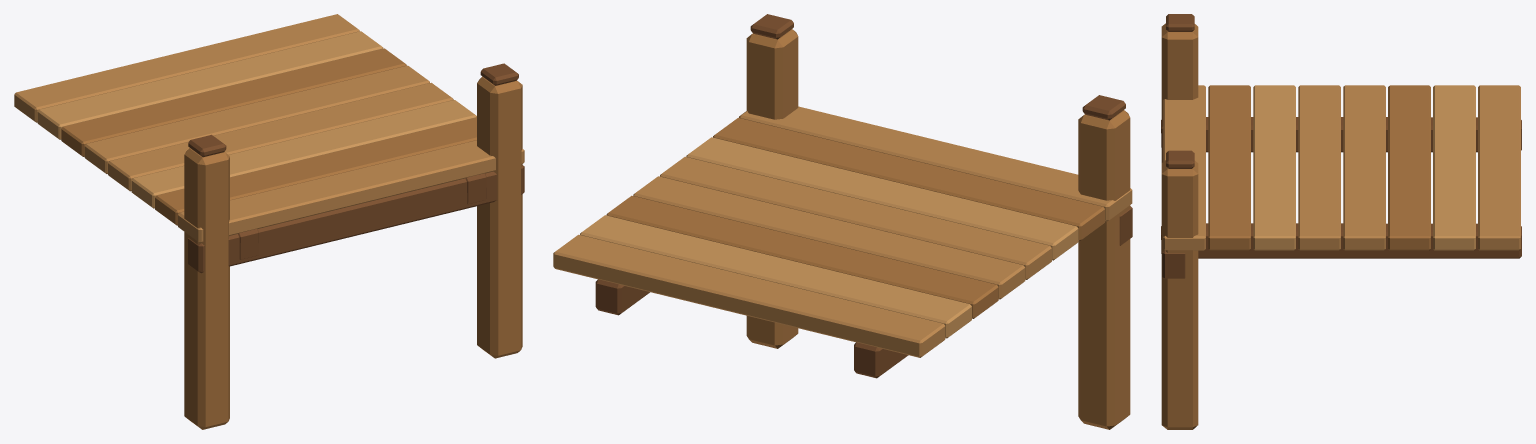
File: dock_straight.glb
3 views of the same model, side by side, from view 1: azimuth 30°, elevation 25°; view 2: azimuth 150°, elevation 25°; view 3: azimuth 270°, elevation 25° (orthographic). The views are drawn at different scales.
Parts seen in each view (by area): view 1: dock_straight; view 2: dock_straight; view 3: dock_straight.
Boxes of the visible parts, x1,y1,x2,y2 form: dock_straight: (14,14,524,429); dock_straight: (553,14,1132,429); dock_straight: (1161,14,1521,429).
Size of the model in its own units: 2.01 by 1.65 by 2.01.
